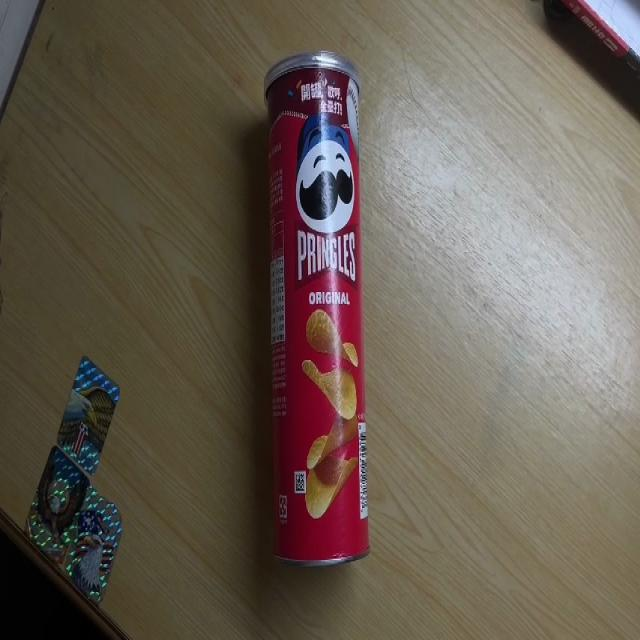Pringles: (264, 52, 370, 566)
